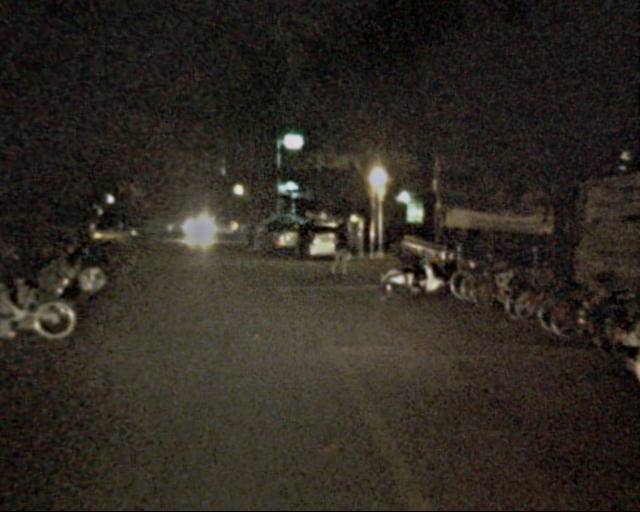person: (328, 222, 353, 284), (243, 221, 257, 255)
